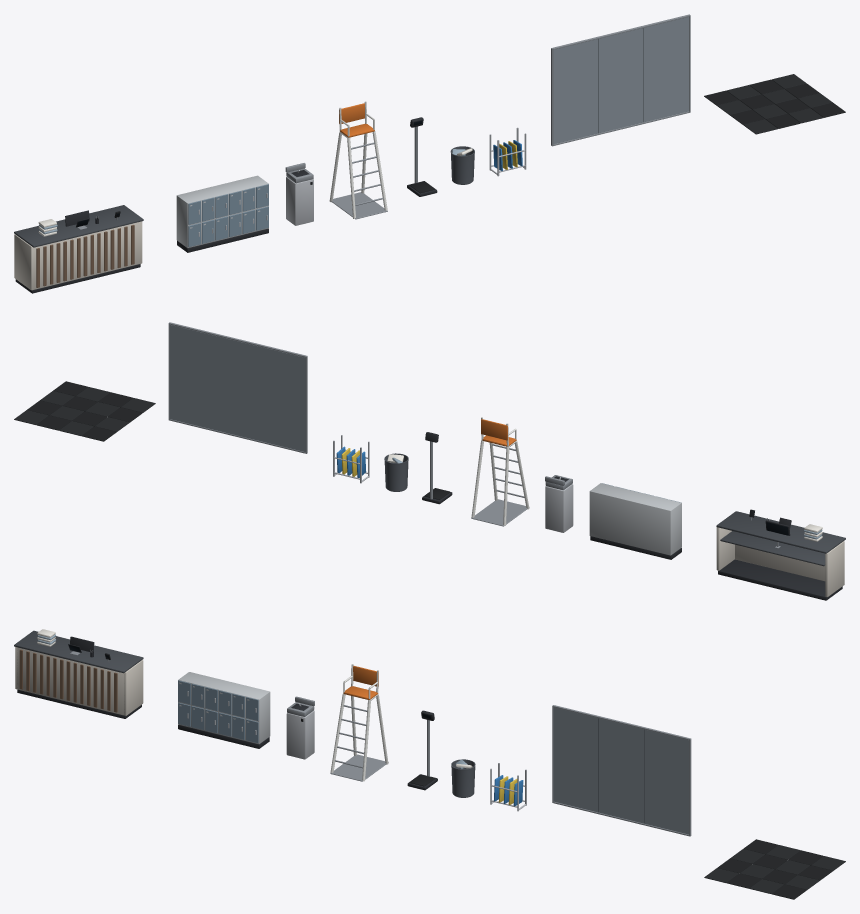
Rendered from gym_b1_entry.glb.
The picture shows the model from 3 angles, top to bottom: view 1: azimuth 30°, elevation 25°; view 2: azimuth 150°, elevation 25°; view 3: azimuth 330°, elevation 25°; orthographic projection.
Parts seen in each view (by area): view 1: gymb2_mirror_pane, gymb2_gym2_counter_vc, gymb2_gym2_lockers_metal, gymb2_gym2_floor_vc, gymb2_gym2_lifeguard_metal, gymb2_gym2_water_metal, gymb2_gym2_mirror_metal, gymb2_gym2_towel_bin_vc, gymb2_gym2_kickboard_rack_vc, gymb2_gym2_lifeguard_vc, gymb2_gym2_lockers_vc; view 2: gymb2_mirror_pane, gymb2_gym2_counter_vc, gymb2_gym2_lockers_metal, gymb2_gym2_floor_vc, gymb2_gym2_lifeguard_metal, gymb2_gym2_water_metal, gymb2_gym2_mirror_metal, gymb2_gym2_towel_bin_vc, gymb2_gym2_kickboard_rack_vc, gymb2_gym2_lifeguard_vc; view 3: gymb2_mirror_pane, gymb2_gym2_counter_vc, gymb2_gym2_lockers_metal, gymb2_gym2_floor_vc, gymb2_gym2_lifeguard_metal, gymb2_gym2_water_metal, gymb2_gym2_mirror_metal, gymb2_gym2_towel_bin_vc, gymb2_gym2_kickboard_rack_vc, gymb2_gym2_lifeguard_vc, gymb2_gym2_lockers_vc.
Boxes of the visible parts, x1,y1,x2,y2 form: gymb2_mirror_pane: (553,17,688,143); gymb2_gym2_counter_vc: (14,205,143,293); gymb2_gym2_lockers_metal: (176,175,268,247); gymb2_gym2_floor_vc: (704,74,845,134); gymb2_gym2_lifeguard_metal: (329,101,387,219); gymb2_gym2_water_metal: (285,163,313,225); gymb2_gym2_mirror_metal: (551,14,690,146); gymb2_gym2_towel_bin_vc: (450,146,474,184); gymb2_gym2_kickboard_rack_vc: (493,140,522,170); gymb2_gym2_lifeguard_vc: (339,103,374,137); gymb2_gym2_lockers_vc: (177,188,268,252); gymb2_mirror_pane: (170,324,305,451); gymb2_gym2_counter_vc: (716,509,845,600); gymb2_gym2_lockers_metal: (589,483,681,555); gymb2_gym2_floor_vc: (14,381,155,441); gymb2_gym2_lifeguard_metal: (471,417,529,526); gymb2_gym2_water_metal: (545,475,573,532); gymb2_gym2_mirror_metal: (168,322,307,453); gymb2_gym2_towel_bin_vc: (384,453,408,491); gymb2_gym2_kickboard_rack_vc: (336,446,366,477); gymb2_gym2_lifeguard_vc: (481,419,516,446); gymb2_mirror_pane: (553,707,688,834); gymb2_gym2_counter_vc: (14,629,143,718); gymb2_gym2_lockers_metal: (178,672,270,744); gymb2_gym2_floor_vc: (704,839,845,899); gymb2_gym2_lifeguard_metal: (330,664,388,781); gymb2_gym2_water_metal: (286,696,314,759); gymb2_gym2_mirror_metal: (552,705,691,836); gymb2_gym2_towel_bin_vc: (451,759,475,797); gymb2_gym2_kickboard_rack_vc: (493,775,523,806); gymb2_gym2_lifeguard_vc: (343,666,378,699); gymb2_gym2_lockers_vc: (178,682,269,748).
Bounding box in the file's own units: 17.63 × 2.34 × 1.99.
